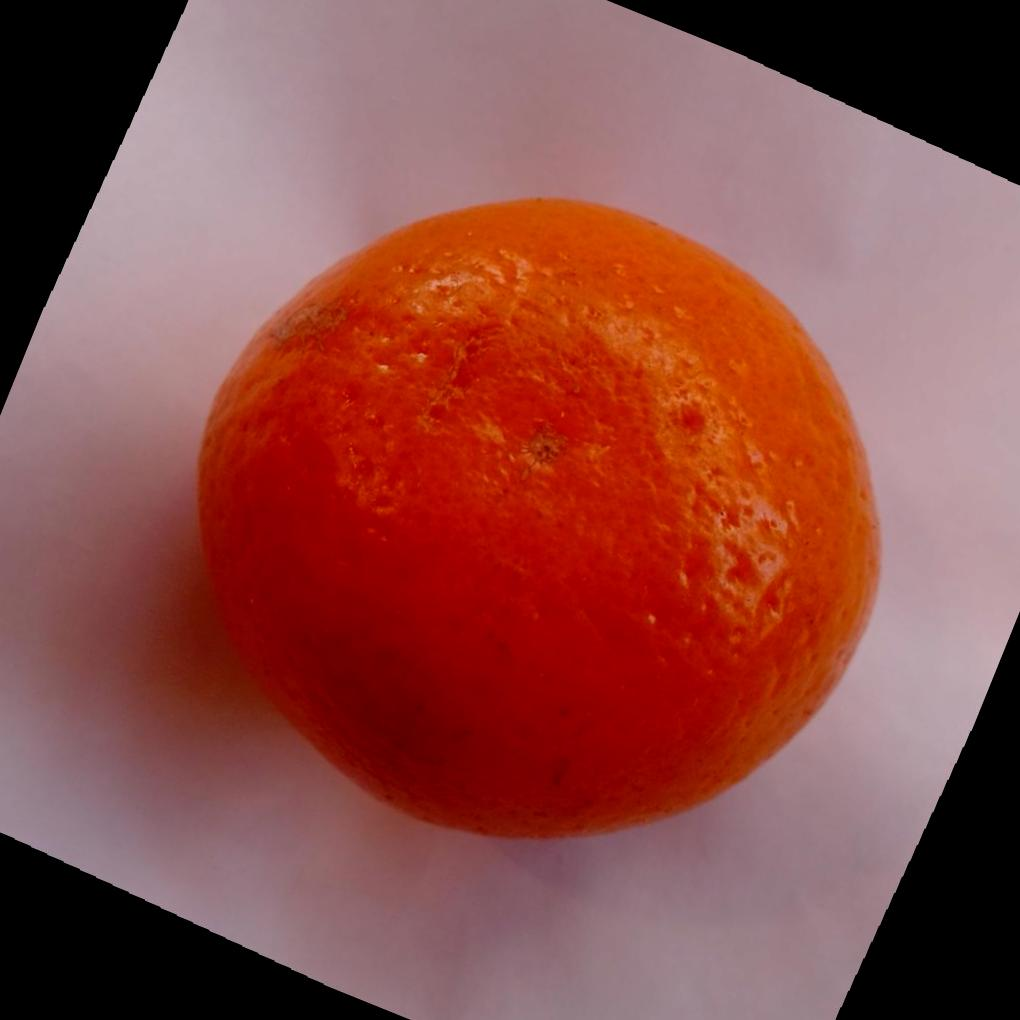FreshGuava: (195, 191, 883, 838)
